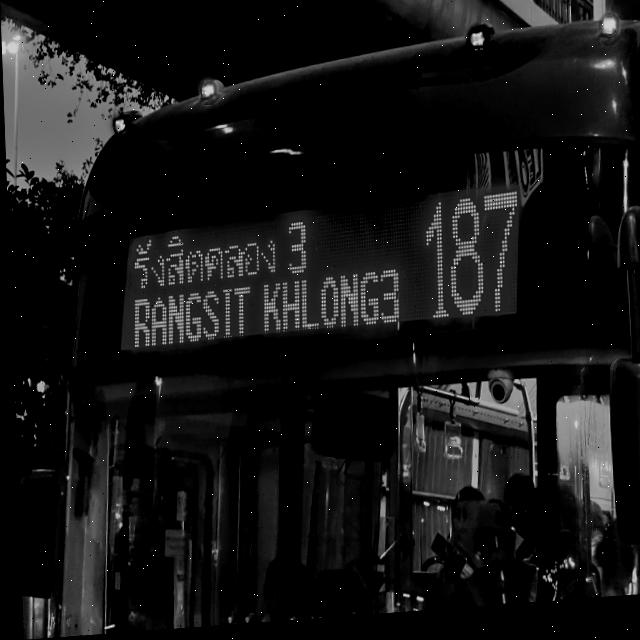Bus-Line-Number: (417, 182, 531, 332)
Destination-Sign-Normal: (110, 207, 405, 347)
TSB-Bus: (17, 0, 640, 639)
